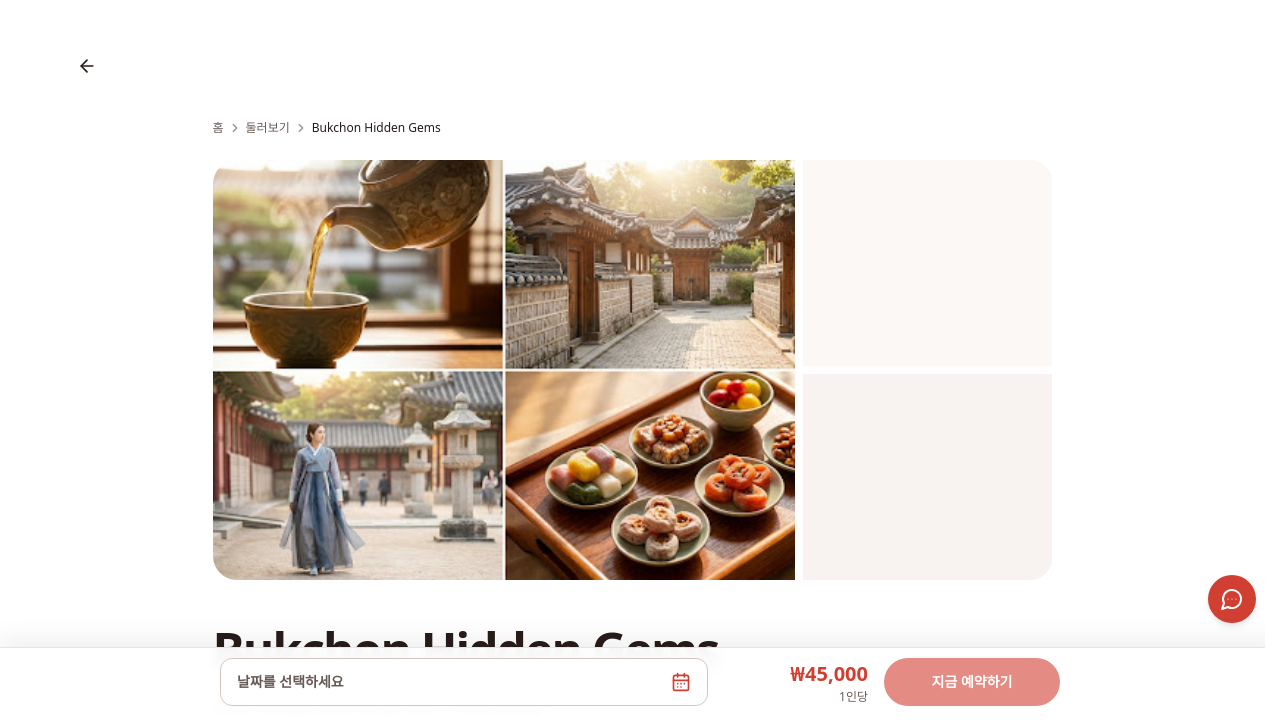
it: ActivityDetailContent › localizes the calendar flow in Korean
Expected: the heading "Bukchon Hidden Gems" is shown, x1=212 y1=617 x2=718 y2=682
Expected: the text "₩45,000" is shown, x1=790 y1=659 x2=868 y2=689
Click the button with test id "date-select-box" at (290, 682), box x1=220 y1=658 x2=708 y2=706
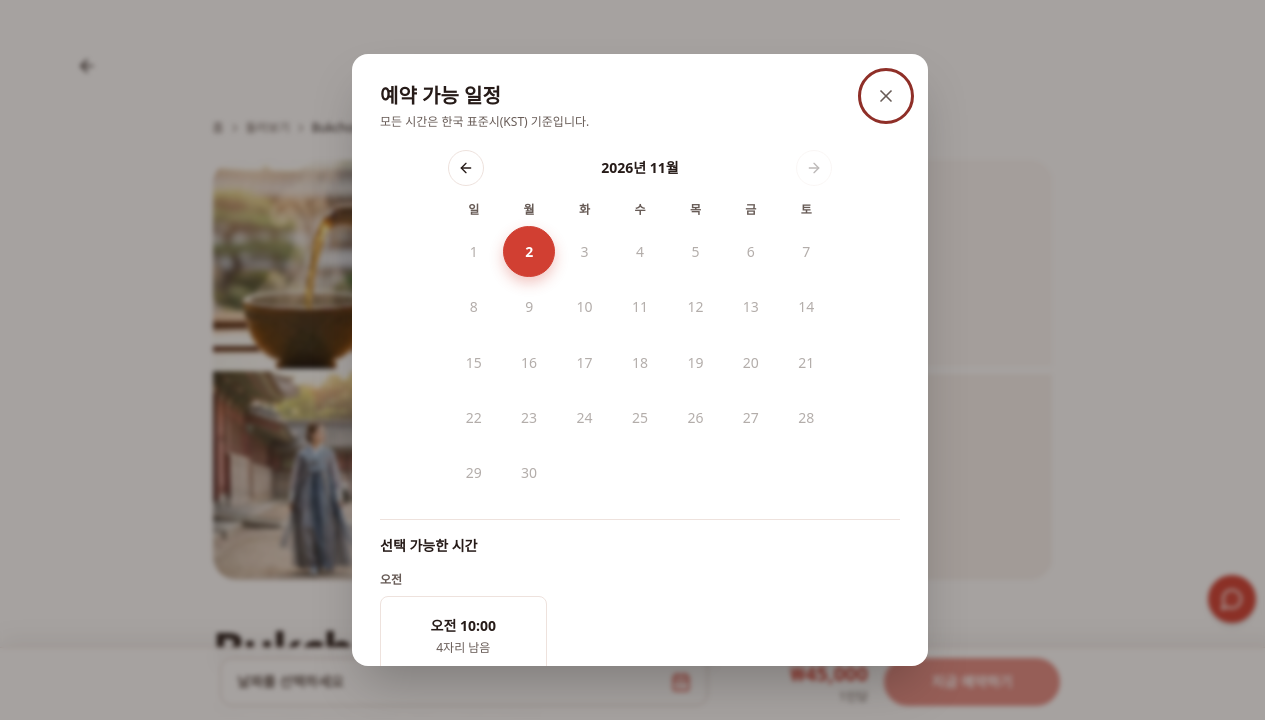
Now the heading "예약 가능 일정" is shown, box x1=380 y1=82 x2=501 y2=109
Now the text "모든 시간은 한국 표준시(KST) 기준입니다." is shown, box x1=380 y1=114 x2=589 y2=130
Now the button "오전 10:00 4자리 남음" is shown, box x1=380 y1=596 x2=547 y2=666
Click the button "오전 10:00 4자리 남음" at (463, 636), box x1=380 y1=596 x2=547 y2=676
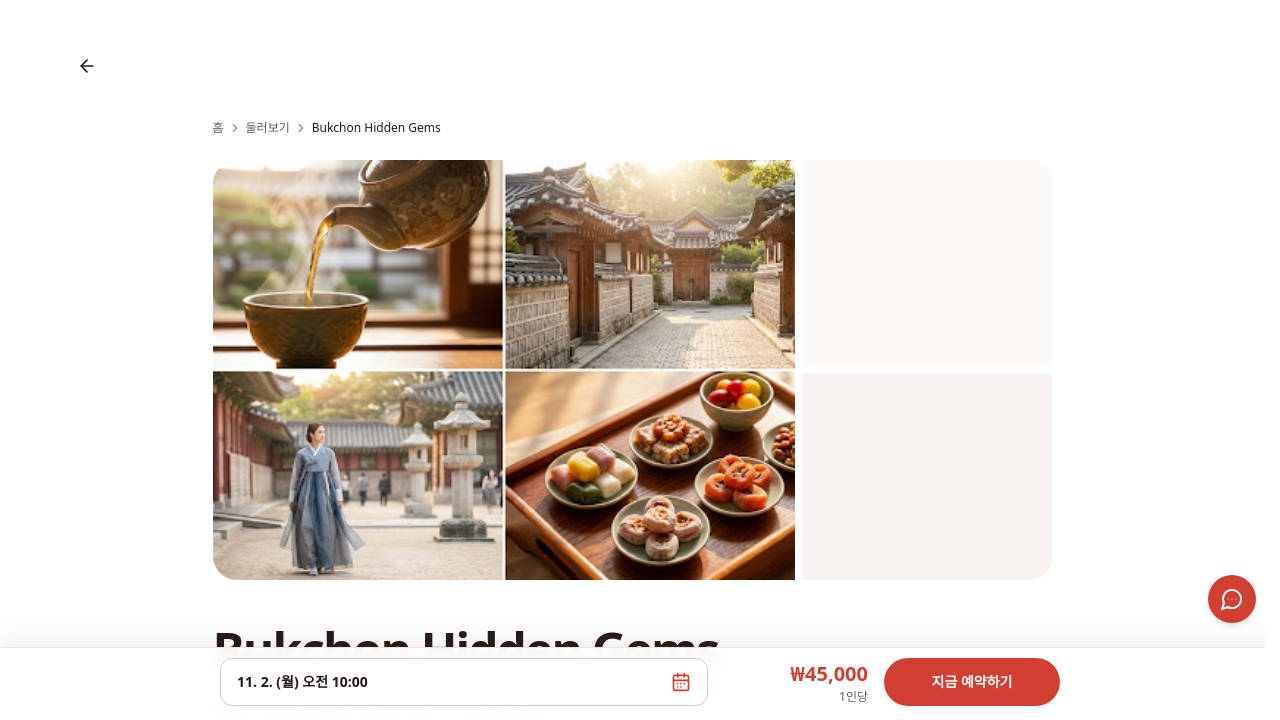
Now the dialog is gone
Now the button with test id "date-select-box" shows "오전 10:00", box x1=220 y1=658 x2=708 y2=706
